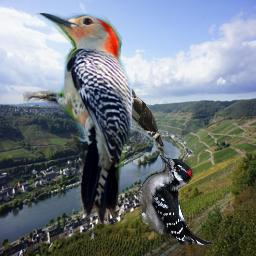Cuckoo: (117, 88, 170, 158)
Woodpecker: (23, 13, 132, 224), (138, 155, 214, 245)
